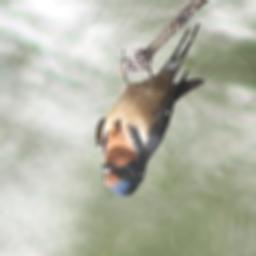Swallow: (92, 21, 200, 199)
